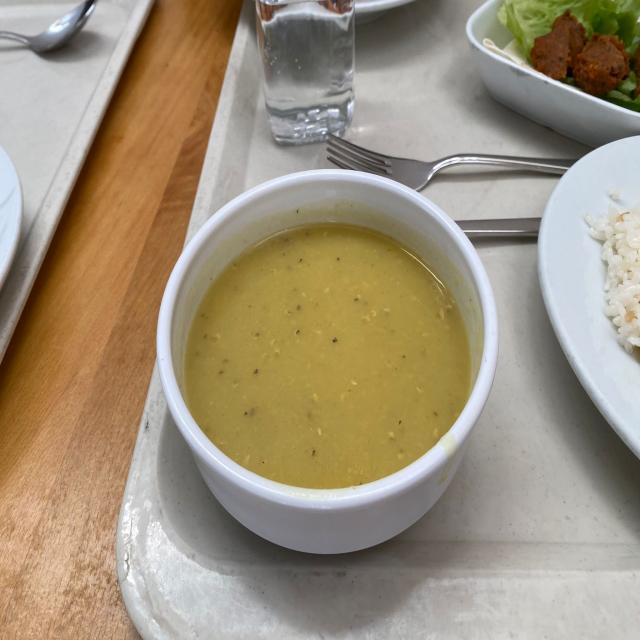corba: (155, 167, 500, 555)
